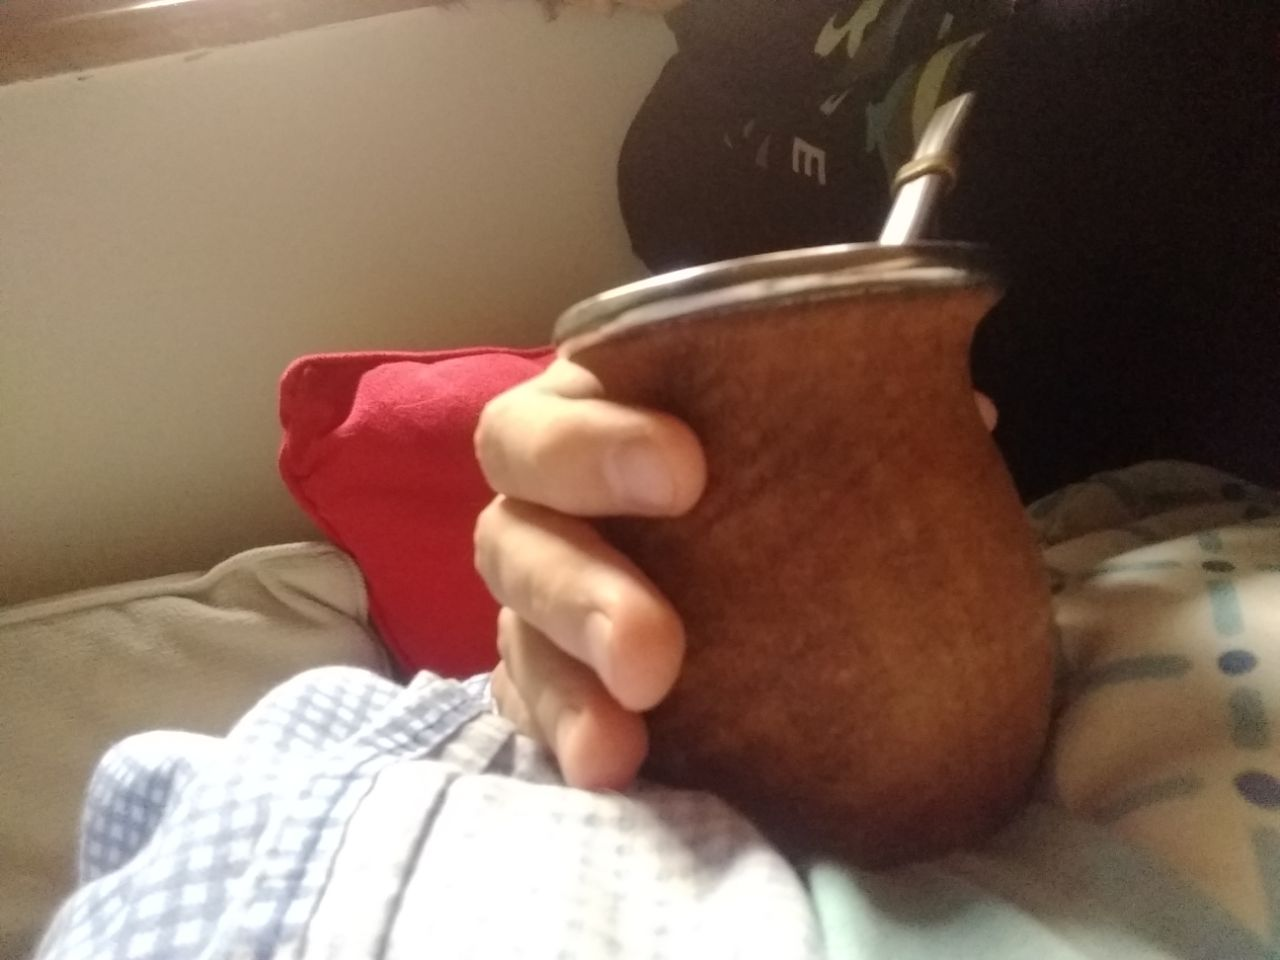madera: (528, 90, 1068, 884)
mate: (530, 92, 1070, 886)
